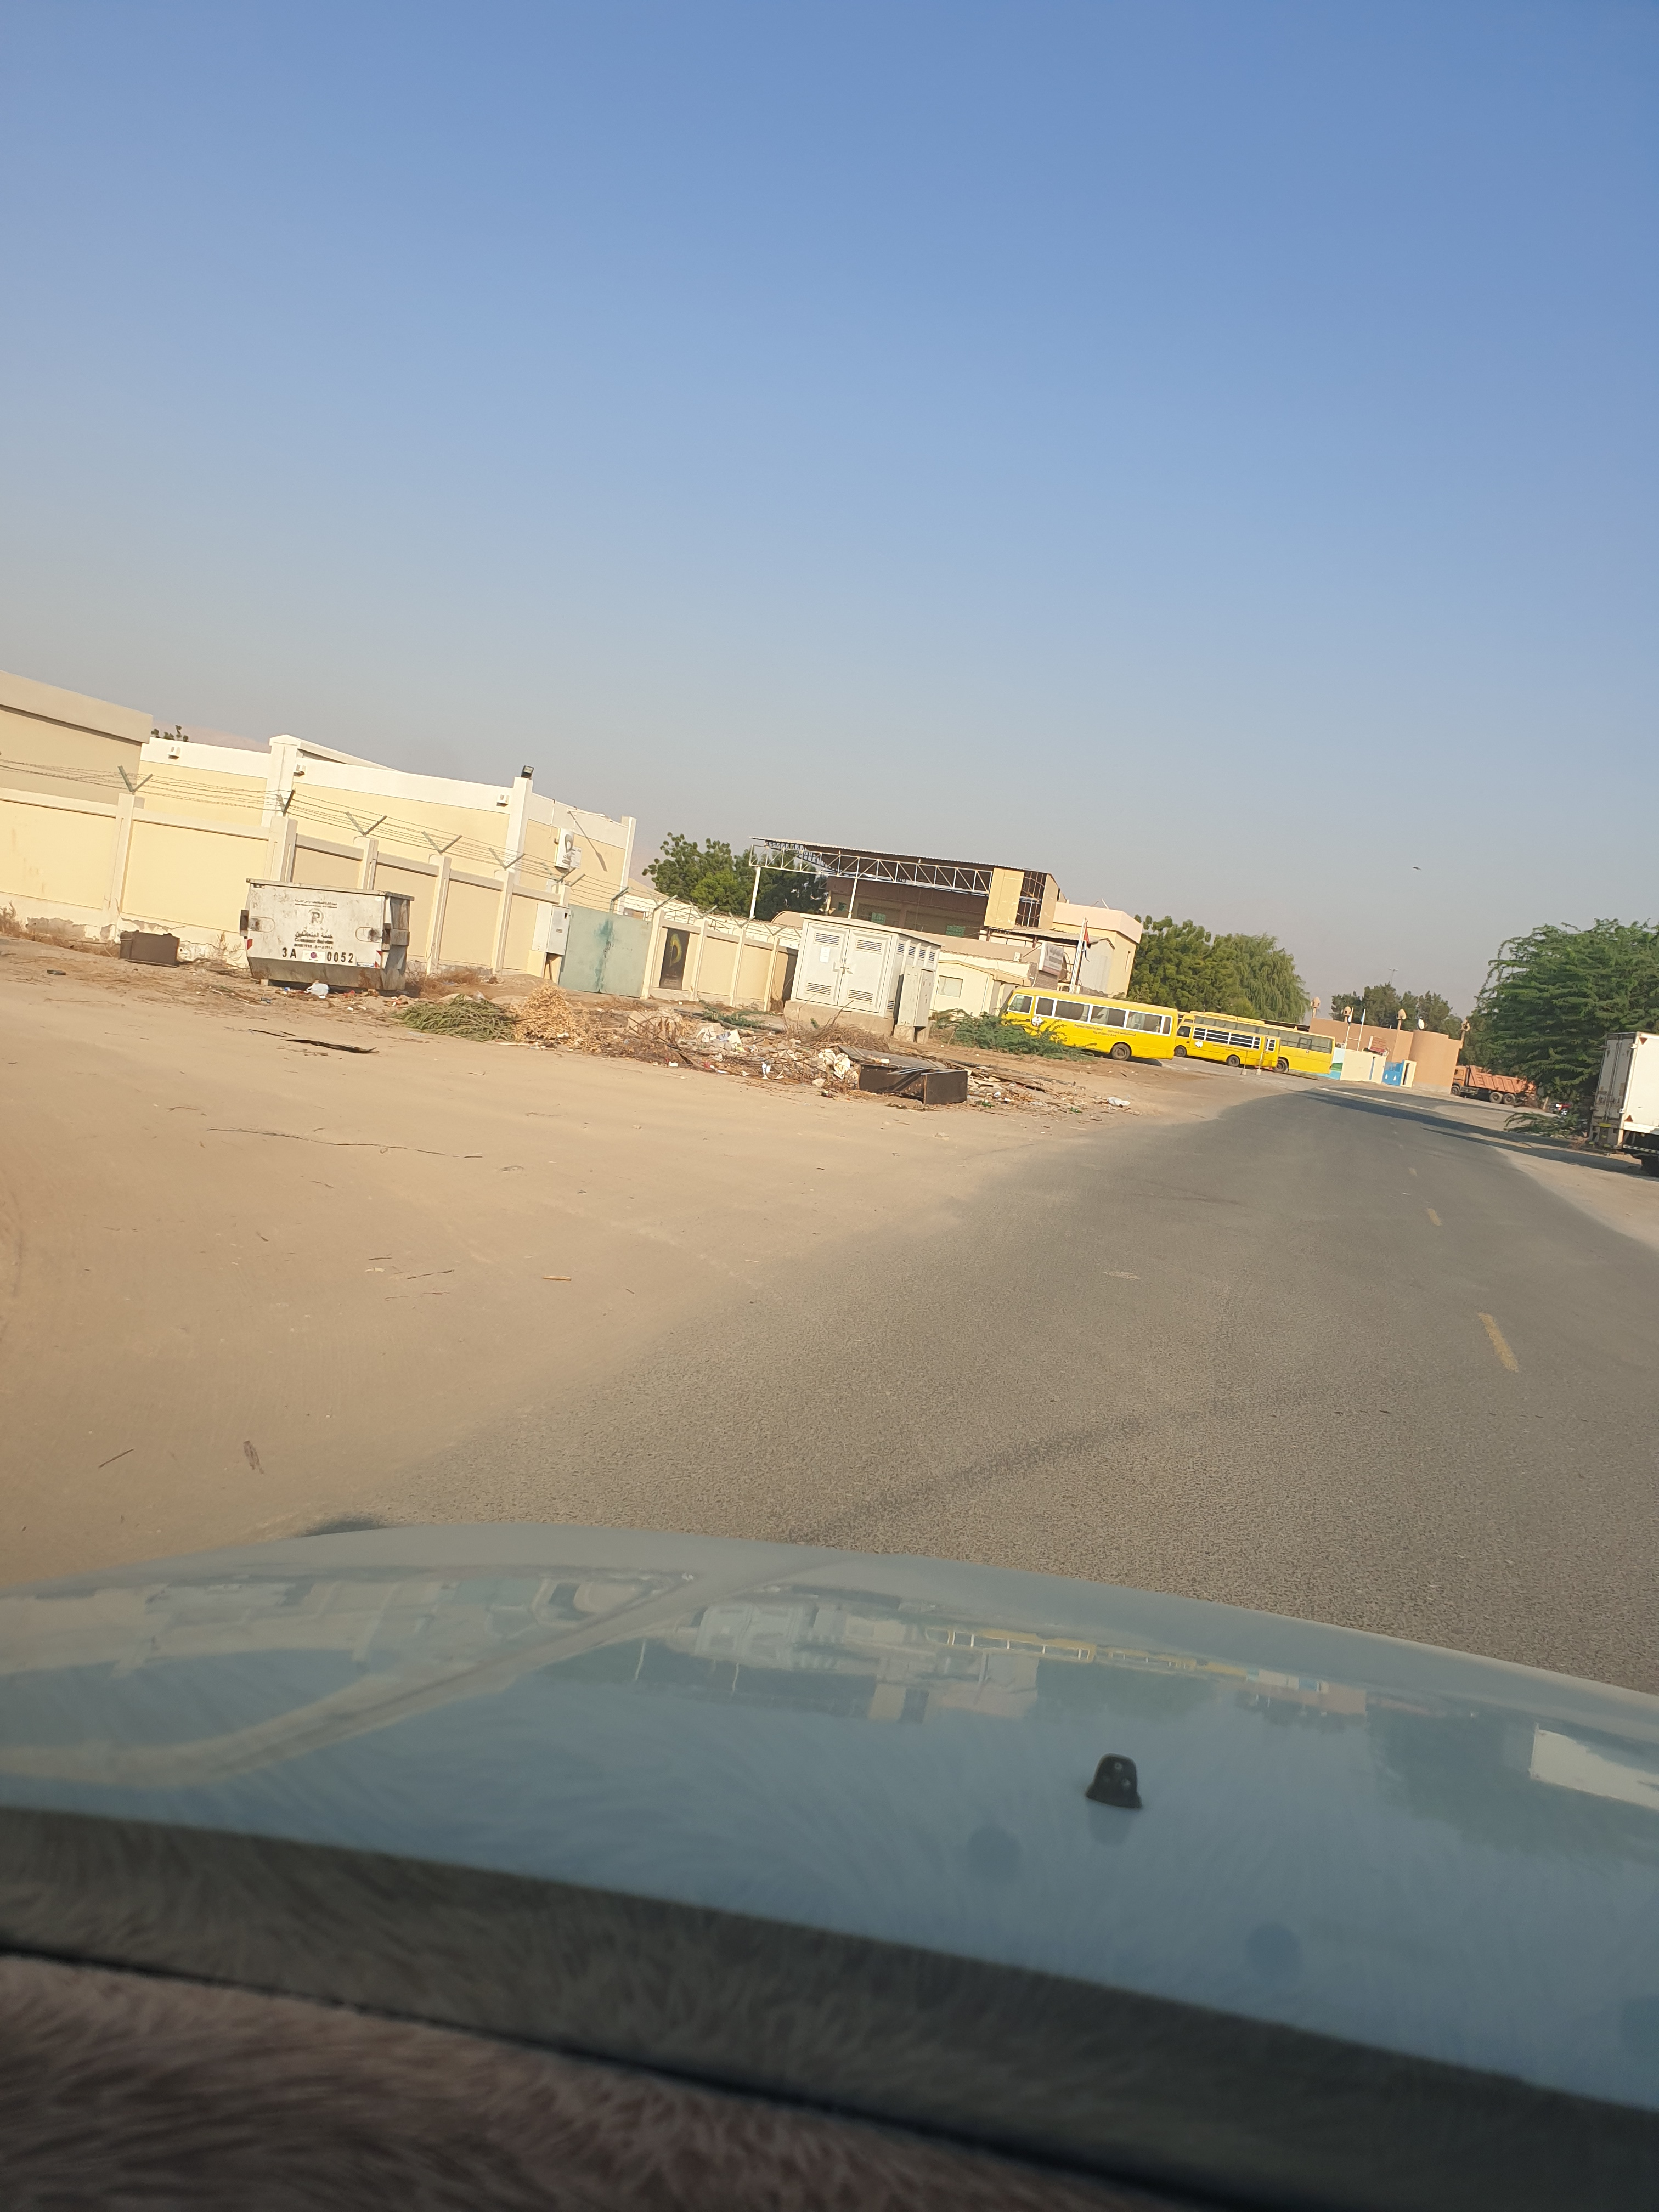fallen_trees: (397, 995, 568, 1050), (514, 1010, 645, 1068), (608, 1029, 732, 1087), (704, 1049, 826, 1101)
uncollected_waste: (854, 1049, 971, 1123)
